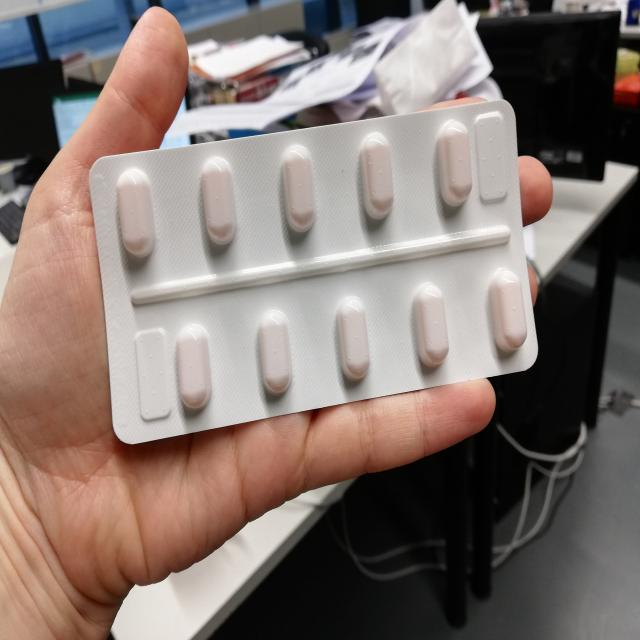Pill: (321, 285, 380, 395), (350, 122, 403, 237), (107, 156, 161, 268), (407, 271, 455, 384), (248, 302, 298, 409), (170, 319, 220, 424), (272, 139, 321, 242), (484, 257, 528, 367), (197, 146, 239, 260), (432, 111, 475, 222)
